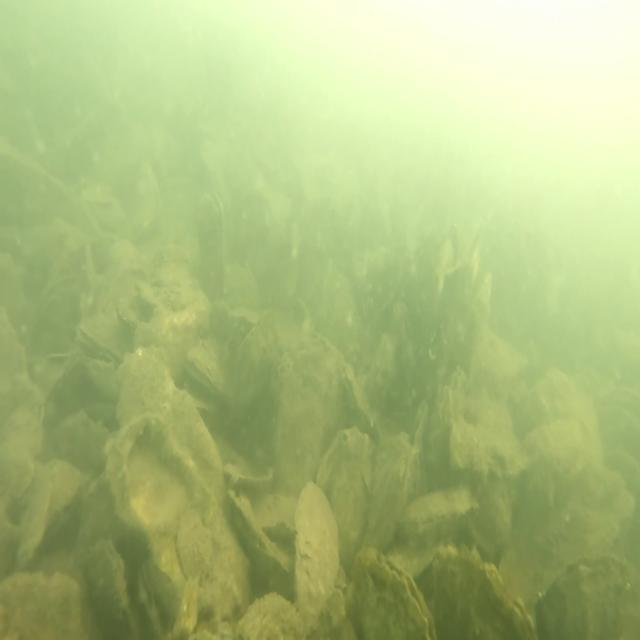Oyster-Closed: (416, 538, 533, 640), (530, 553, 640, 640), (346, 546, 436, 640), (15, 453, 90, 565), (364, 433, 416, 572), (228, 487, 292, 591), (88, 537, 140, 640), (396, 482, 477, 542), (432, 367, 466, 474), (342, 362, 381, 438), (362, 331, 399, 410), (182, 343, 227, 397), (252, 489, 298, 541), (407, 393, 433, 458)
Oyster-Indeterminate: (104, 413, 249, 616), (518, 420, 630, 600), (118, 350, 228, 500), (270, 341, 344, 494), (318, 424, 373, 559), (295, 481, 339, 640), (3, 570, 84, 640)
Oyster-Open: (196, 188, 228, 306), (74, 316, 133, 375)
